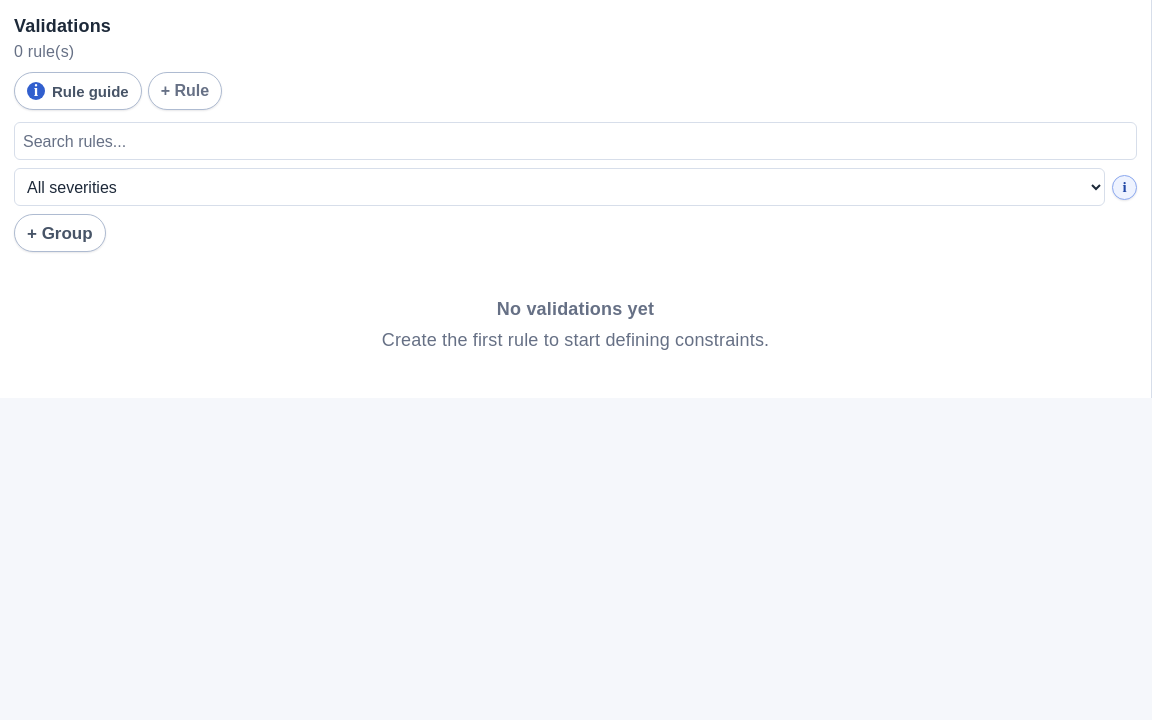
Scenario: validation rule manager › opens the rule creation guide before a rule is selected
Click the button "i Rule guide".
click(78, 91)  # box [14,72,142,110]
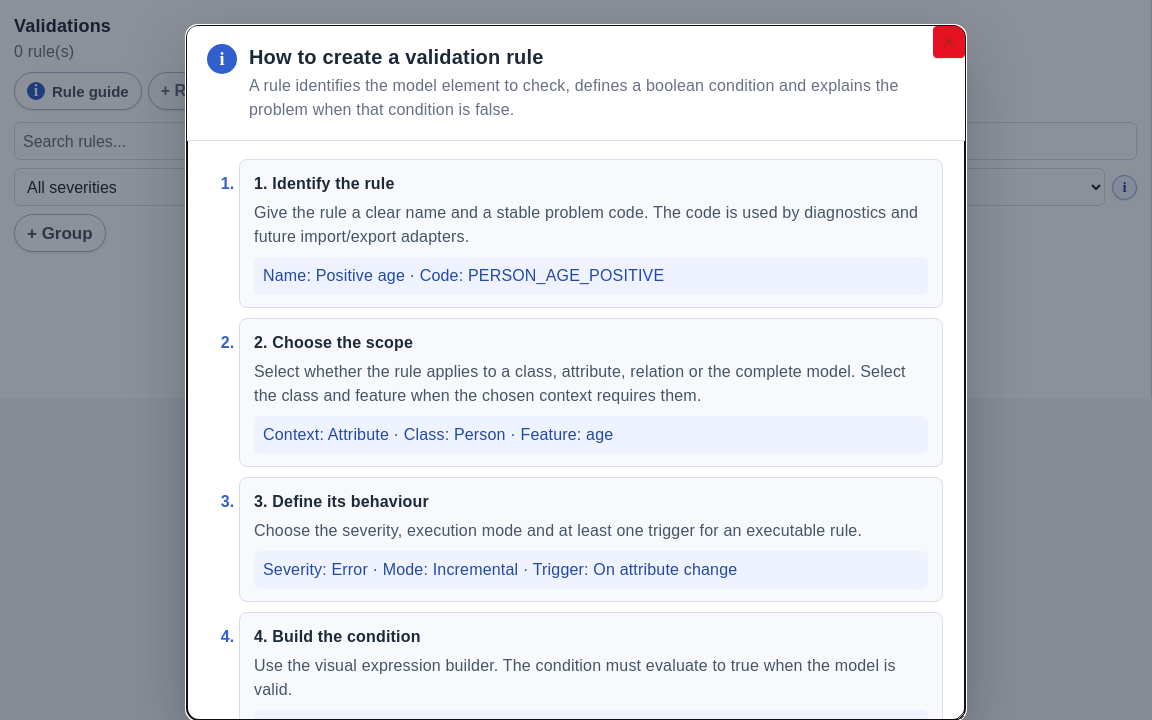
Now the dialog "How to create a validation rule" is shown
